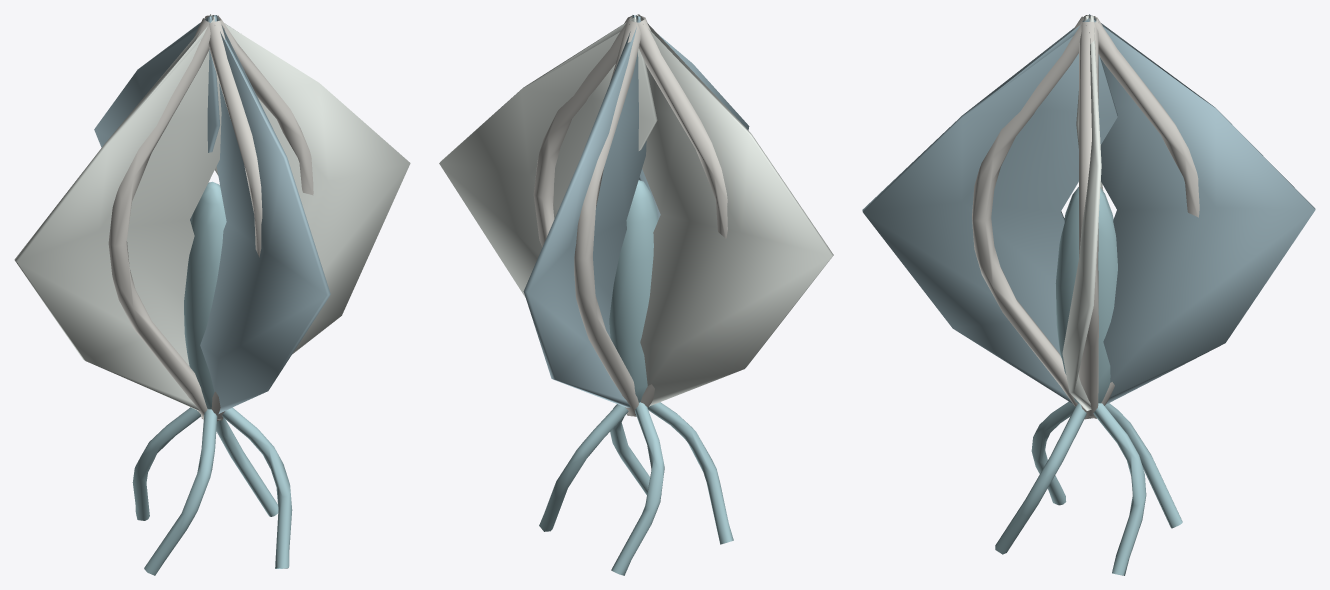
Rendered from bio_lantern_sail_07_far.glb.
3 renders of one model, left to right at view 1: azimuth 30°, elevation 25°; view 2: azimuth 150°, elevation 25°; view 3: azimuth 270°, elevation 25°, orthographic.
Parts seen in each view (by area): view 1: Ribbed sensory membrane.002, Ribbed sensory membrane.003, Ribbed sensory membrane, Membrane leading seam.002, Buoyancy spindle, Ribbed sensory membrane.001, Membrane leading seam.003, Membrane leading seam, Trailing electroreceptor.003, Trailing electroreceptor.002, Trailing electroreceptor.001, Trailing electroreceptor; view 2: Ribbed sensory membrane.002, Ribbed sensory membrane, Ribbed sensory membrane.001, Buoyancy spindle, Membrane leading seam.001, Membrane leading seam.002, Membrane leading seam, Trailing electroreceptor.001, Trailing electroreceptor.002, Trailing electroreceptor, Trailing electroreceptor.003, Ribbed sensory membrane.003; view 3: Ribbed sensory membrane.001, Ribbed sensory membrane.003, Membrane leading seam.003, Ribbed sensory membrane, Buoyancy spindle, Membrane leading seam, Membrane leading seam.001, Trailing electroreceptor, Trailing electroreceptor.003, Trailing electroreceptor.001, Trailing electroreceptor.002.
Boxes of the visible parts, <box> form: Ribbed sensory membrane.002: <box>14,16,221,410</box>; Ribbed sensory membrane.003: <box>200,15,330,413</box>; Ribbed sensory membrane: <box>210,14,410,354</box>; Membrane leading seam.002: <box>108,18,215,419</box>; Buoyancy spindle: <box>184,181,226,409</box>; Ribbed sensory membrane.001: <box>94,16,220,221</box>; Membrane leading seam.003: <box>208,20,262,421</box>; Membrane leading seam: <box>217,15,313,420</box>; Trailing electroreceptor.003: <box>222,407,292,568</box>; Trailing electroreceptor.002: <box>144,409,217,575</box>; Trailing electroreceptor.001: <box>132,407,200,520</box>; Trailing electroreceptor: <box>216,418,278,516</box>; Ribbed sensory membrane.002: <box>637,14,833,406</box>; Ribbed sensory membrane: <box>439,16,657,297</box>; Ribbed sensory membrane.001: <box>523,16,646,407</box>; Buoyancy spindle: <box>609,180,658,402</box>; Membrane leading seam.001: <box>574,20,643,416</box>; Membrane leading seam.002: <box>633,18,727,416</box>; Membrane leading seam: <box>533,16,632,415</box>; Trailing electroreceptor.001: <box>611,402,664,575</box>; Trailing electroreceptor.002: <box>647,402,733,544</box>; Trailing electroreceptor: <box>539,404,628,531</box>; Trailing electroreceptor.003: <box>610,404,661,494</box>; Ribbed sensory membrane.003: <box>632,15,749,219</box>; Ribbed sensory membrane.001: <box>1089,14,1315,404</box>; Ribbed sensory membrane.003: <box>862,18,1117,403</box>; Membrane leading seam.003: <box>972,16,1086,418</box>; Ribbed sensory membrane: <box>1062,16,1101,410</box>; Buoyancy spindle: <box>1055,187,1117,403</box>; Membrane leading seam: <box>1079,22,1098,419</box>; Membrane leading seam.001: <box>1089,17,1199,418</box>; Trailing electroreceptor: <box>1093,403,1146,575</box>; Trailing electroreceptor.003: <box>995,403,1086,554</box>; Trailing electroreceptor.001: <box>1105,403,1182,528</box>; Trailing electroreceptor.002: <box>1031,401,1074,505</box>.
Size of the model in its own units: 2.31 by 2.95 by 2.31.
